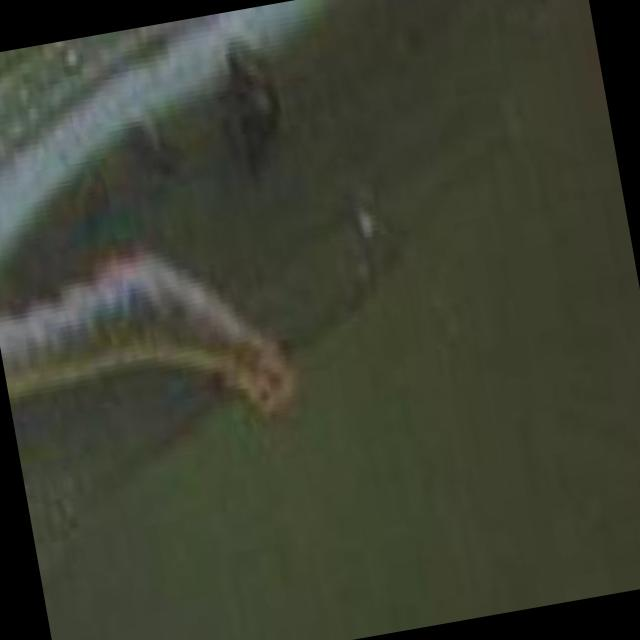leaf-folder: (0, 214, 324, 484)
